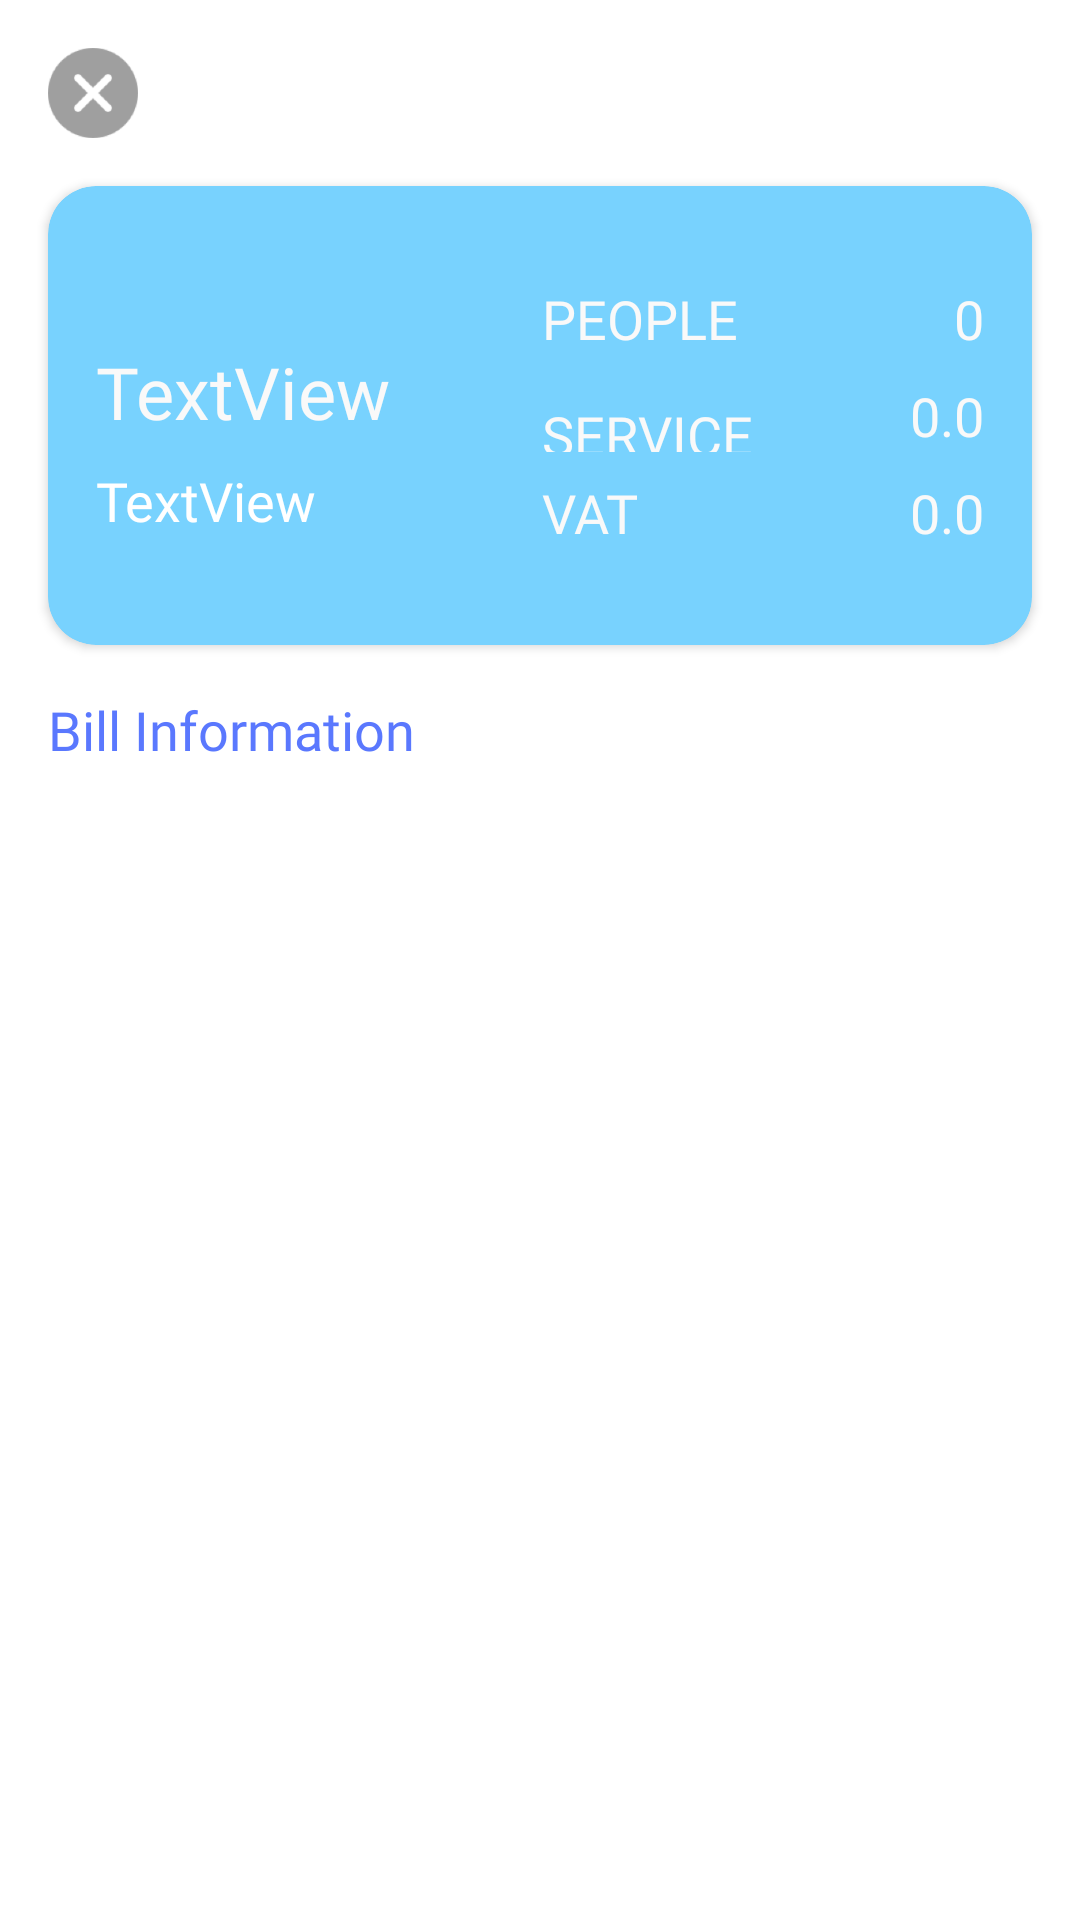

Where to tap for icons on this 1080px x 1920px app screen, as (x=x, y=y):
cancel: (x=93, y=93)
